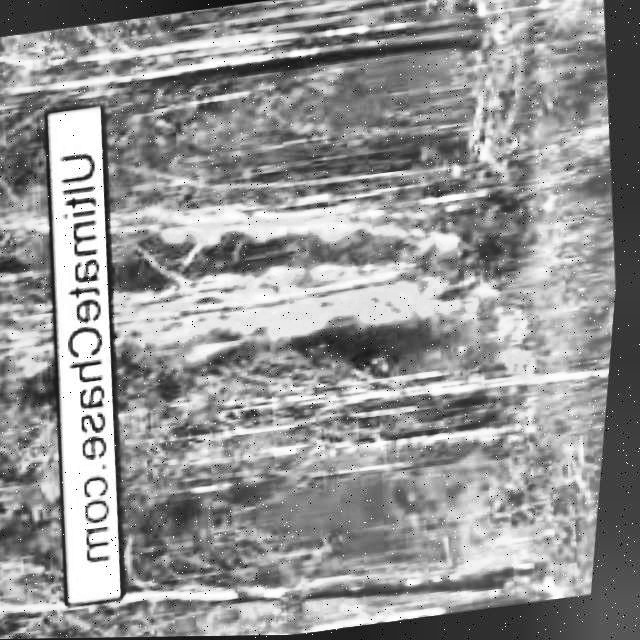Fire: (104, 164, 498, 400), (472, 294, 551, 392), (0, 300, 73, 384)
